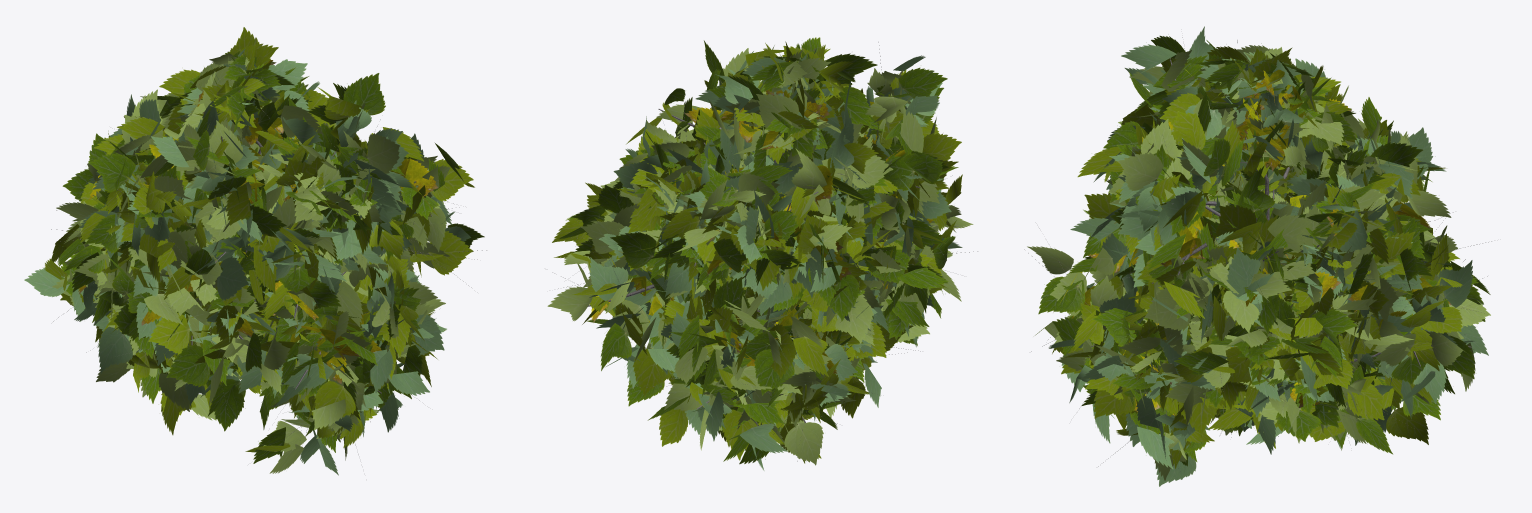
File: veg_bushRound.glb
3 renders of one model, left to right at view 1: azimuth 30°, elevation 25°; view 2: azimuth 150°, elevation 25°; view 3: azimuth 270°, elevation 25°, orthographic. The views are drawn at different scales.
Parts seen in each view (by area): view 1: bushRound; view 2: bushRound; view 3: bushRound.
Part boxes in pixels (box(x1,y1,x2,y2)): bushRound: box(24, 27, 486, 475); bushRound: box(547, 37, 977, 470); bushRound: box(1024, 26, 1491, 486).
Size of the model in its own units: 1.24 by 1.26 by 1.25.
6 materials, 6 textured.
